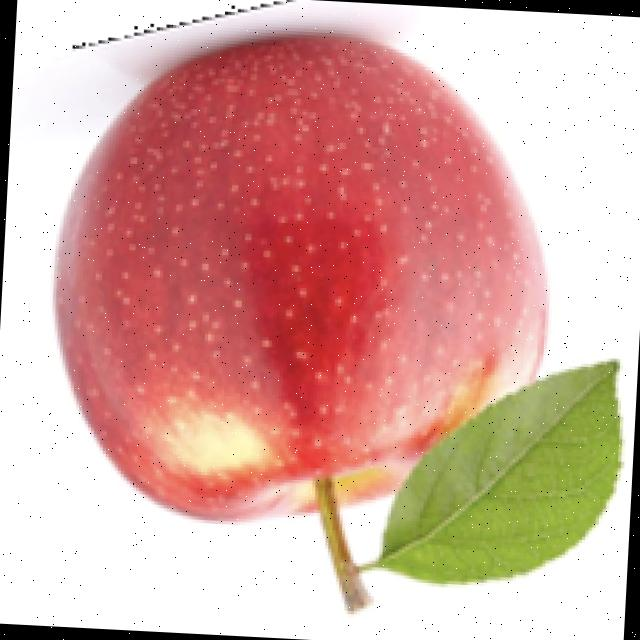apple: (49, 0, 628, 620)
